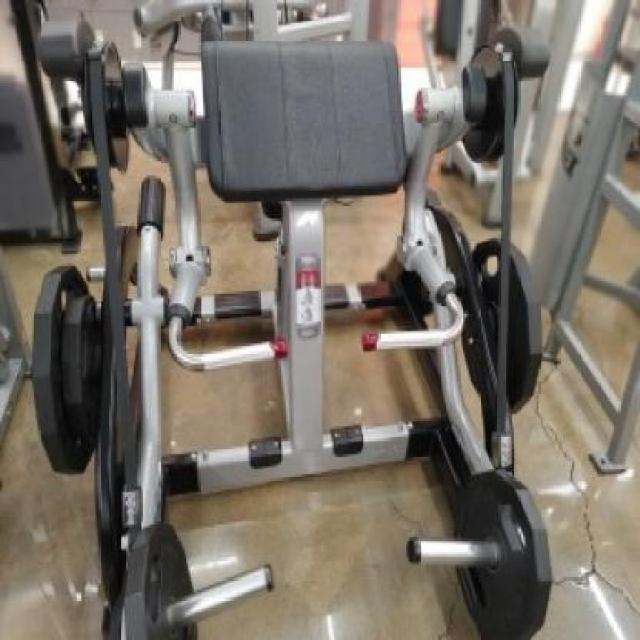arm curl machine: (41, 21, 552, 640)
